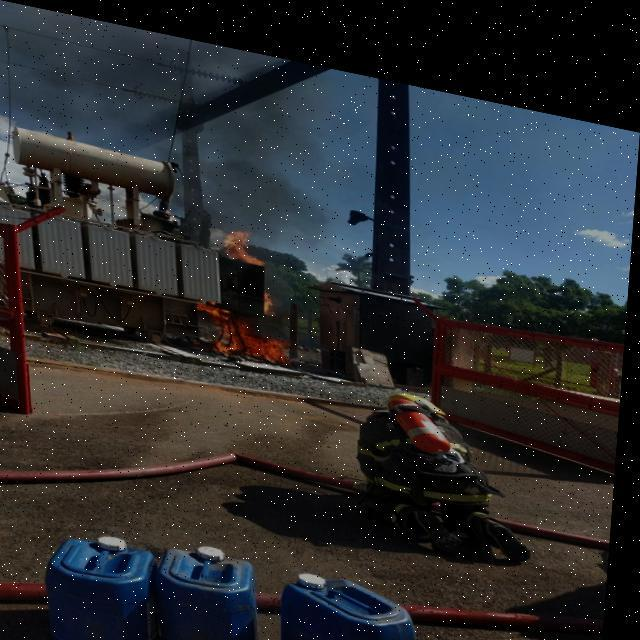Fire: (195, 296, 302, 354), (218, 214, 272, 256), (264, 278, 284, 303)
